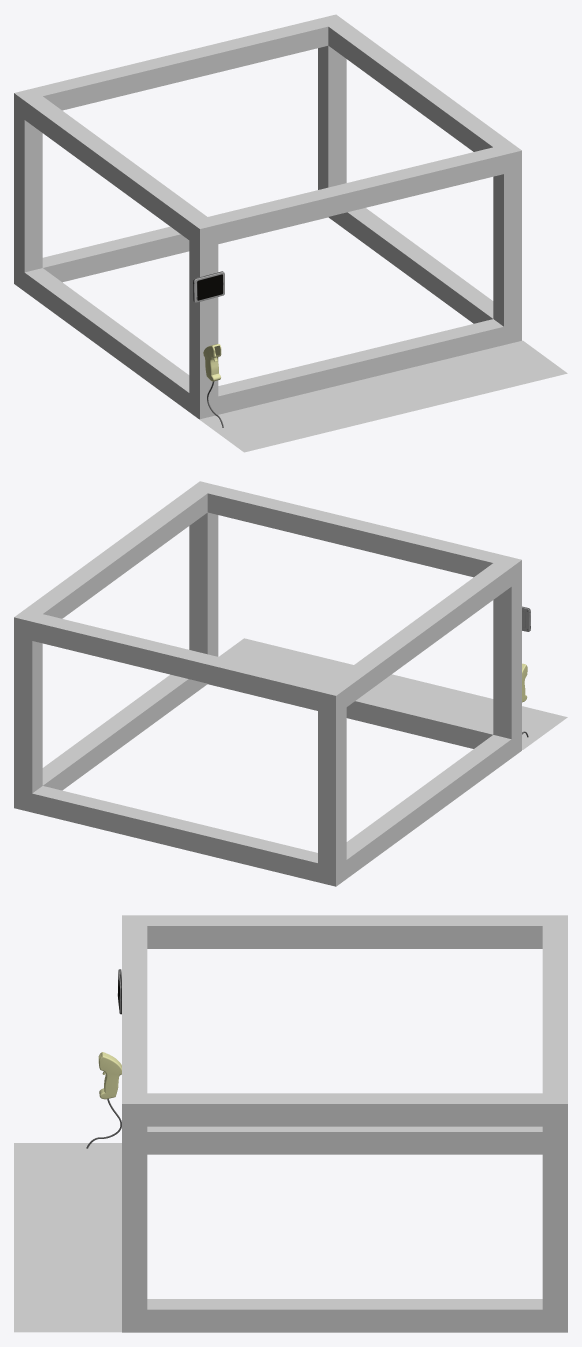
File: desk.glb
The picture shows the model from 3 angles, top to bottom: view 1: azimuth 30°, elevation 25°; view 2: azimuth 150°, elevation 25°; view 3: azimuth 270°, elevation 25°; orthographic projection. The views are drawn at different scales.
Visible parts, largest first — view 1: Counter; view 2: Counter; view 3: Counter.
Part boxes in pixels (box(x1,y1,x2,y2)): Counter: box(14, 14, 567, 452); Counter: box(14, 481, 567, 886); Counter: box(14, 915, 567, 1332).
Bounding box in the file's own units: 1.09 × 0.6 × 1.32.
4 materials, 1 textured.
